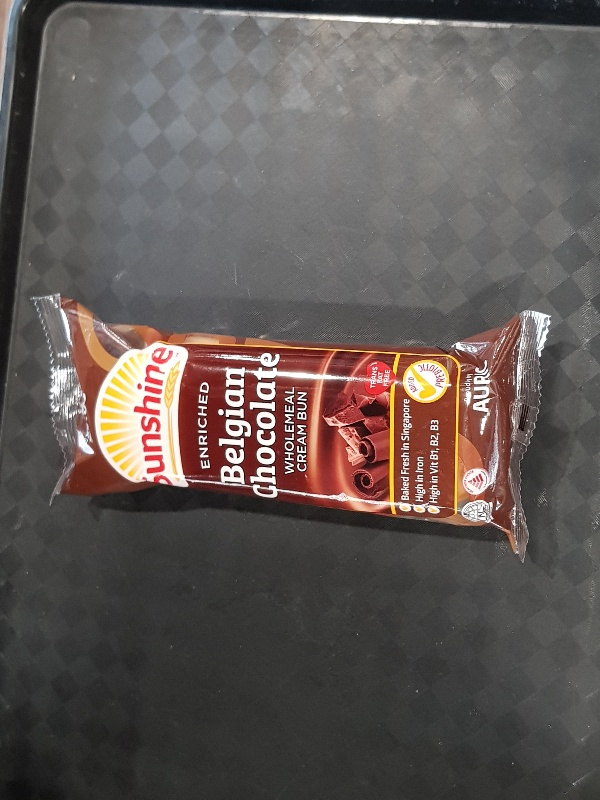Sunshine Belgium Chocolate Wholemeal Cream Bun: (32, 293, 551, 559)
